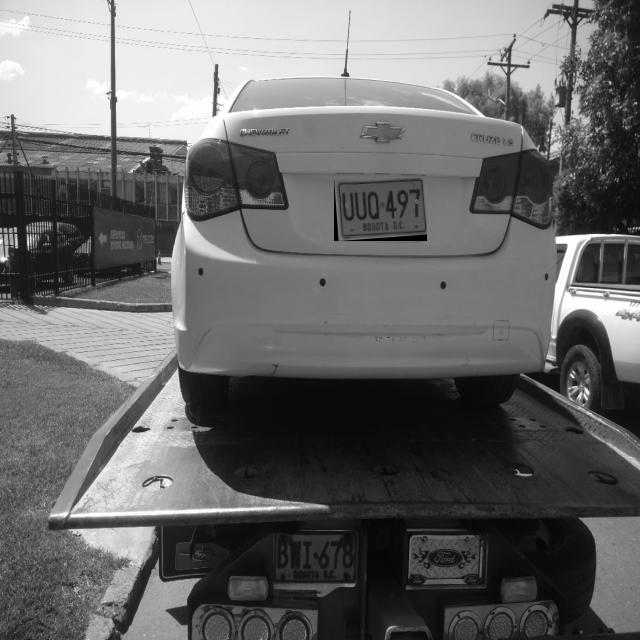plate: (334, 178, 427, 241)
